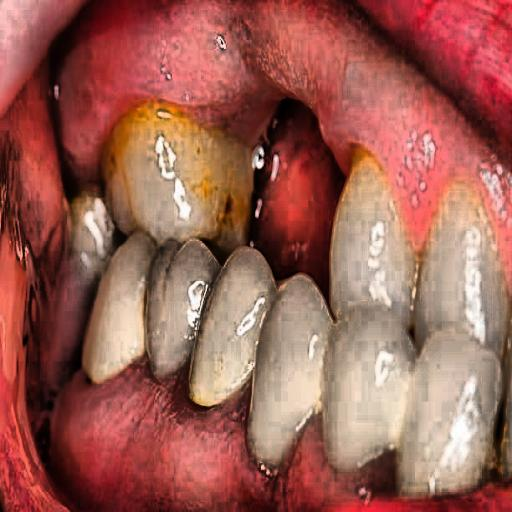Gingivitis: (38, 307, 352, 512), (285, 0, 512, 217), (48, 0, 279, 164)
